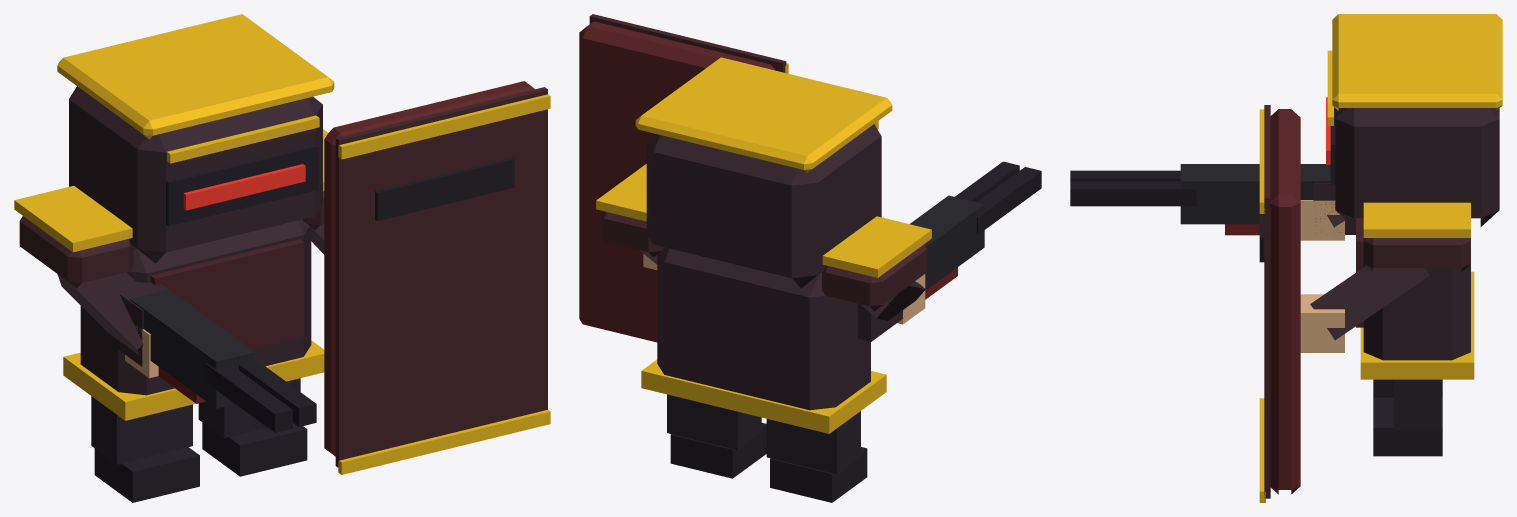
The model's file is breacher_r3.glb.
3 renders of one model, left to right at view 1: azimuth 30°, elevation 25°; view 2: azimuth 150°, elevation 25°; view 3: azimuth 270°, elevation 25°, orthographic. The views are drawn at different scales.
Parts seen in each view (by area): view 1: breacher_r3_mesh; view 2: breacher_r3_mesh; view 3: breacher_r3_mesh.
Part boxes in pixels (left/top/right/bottom): breacher_r3_mesh: left=14, top=14, right=550, bottom=502; breacher_r3_mesh: left=579, top=14, right=1041, bottom=502; breacher_r3_mesh: left=1070, top=14, right=1502, bottom=502.
Bounding box in the file's own units: 2.22 × 2 × 2.16.
Materials: 1 (1 with a texture image).
